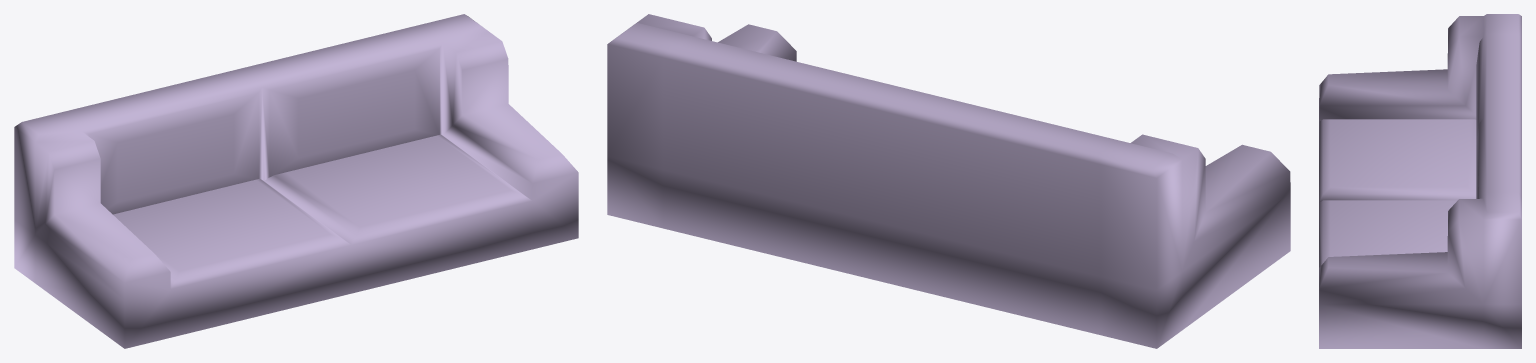
Rendered from sofa.fbx.
3 views of the same model, side by side, from view 1: azimuth 30°, elevation 25°; view 2: azimuth 150°, elevation 25°; view 3: azimuth 270°, elevation 25° (orthographic). The views are drawn at different scales.
Visible parts, largest first — view 1: sofa; view 2: sofa; view 3: sofa.
Boxes of the visible parts, <box> form: sofa: <box>14,14,578,348</box>; sofa: <box>607,14,1290,348</box>; sofa: <box>1319,14,1521,348</box>.
Bounding box in the file's own units: 635 × 195 × 267.
